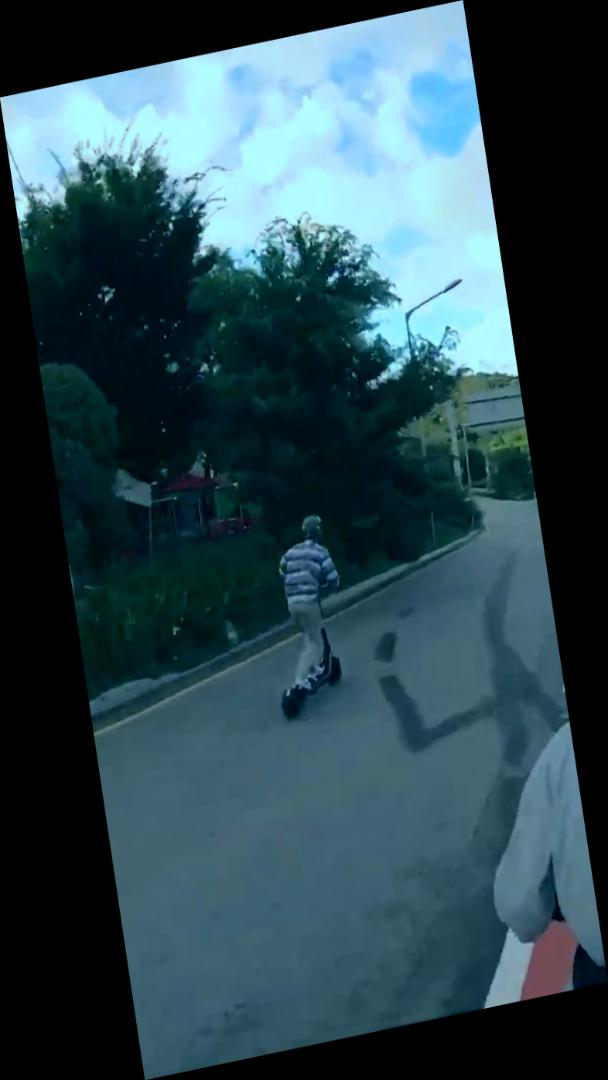helmet: (254, 505, 365, 724)
